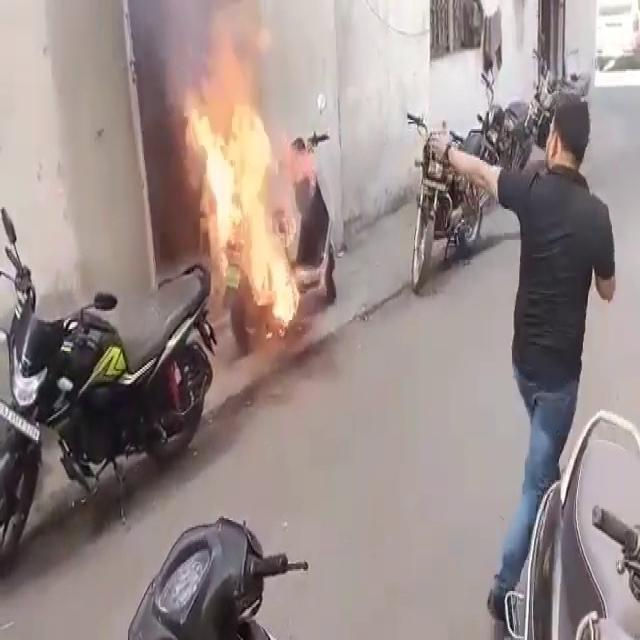Fire: (182, 57, 300, 341)
